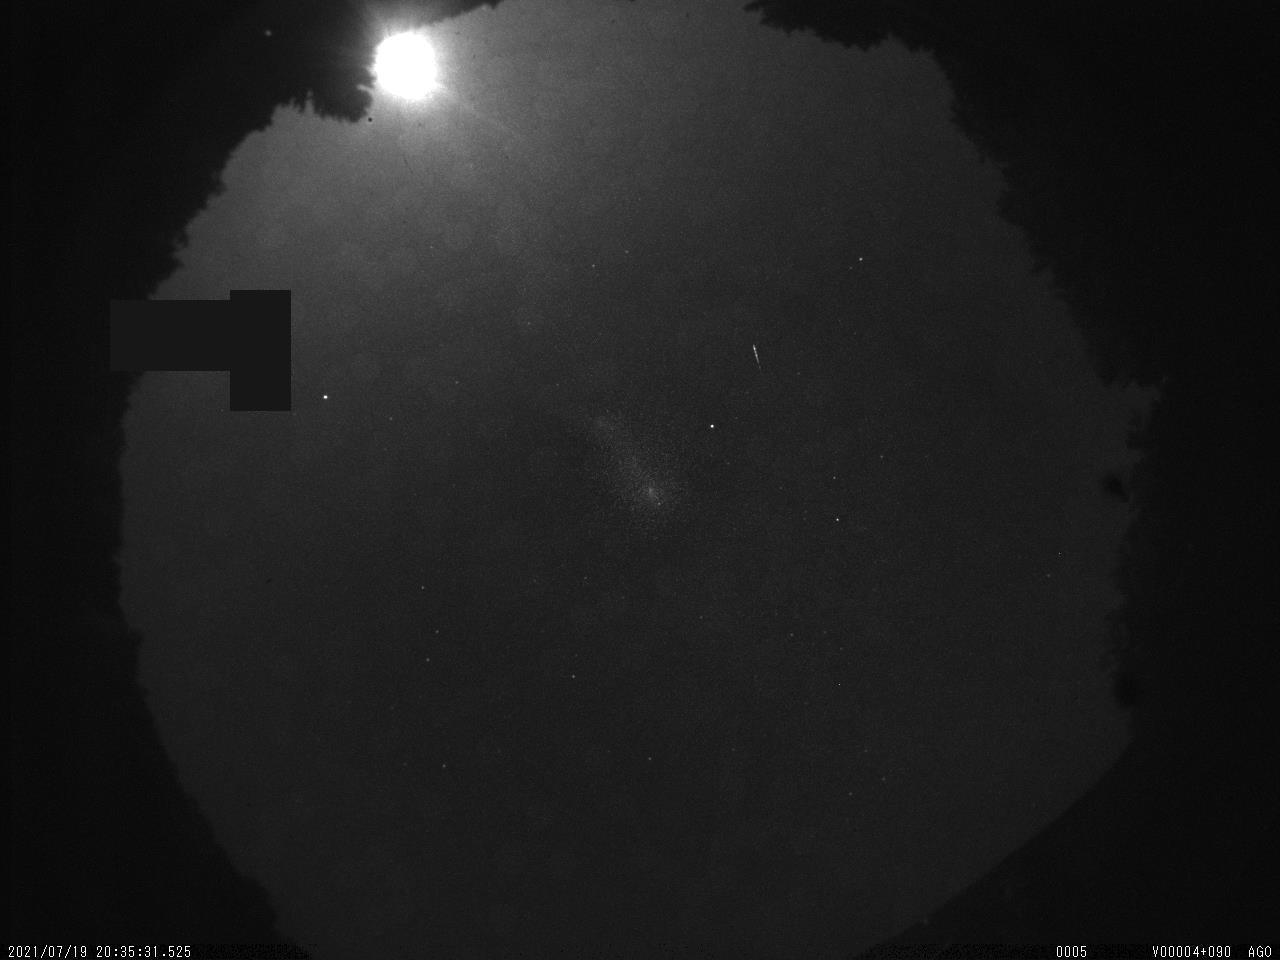meteor: (738, 334, 774, 388)
